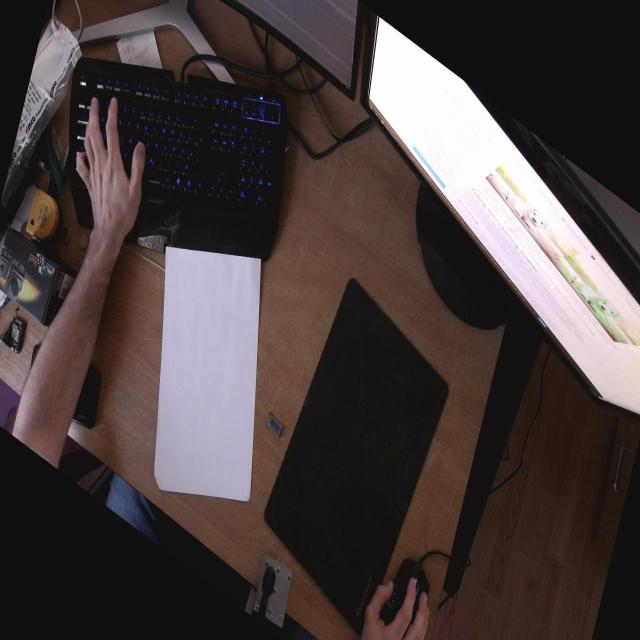keyboard-with-hands: (67, 54, 286, 263)
